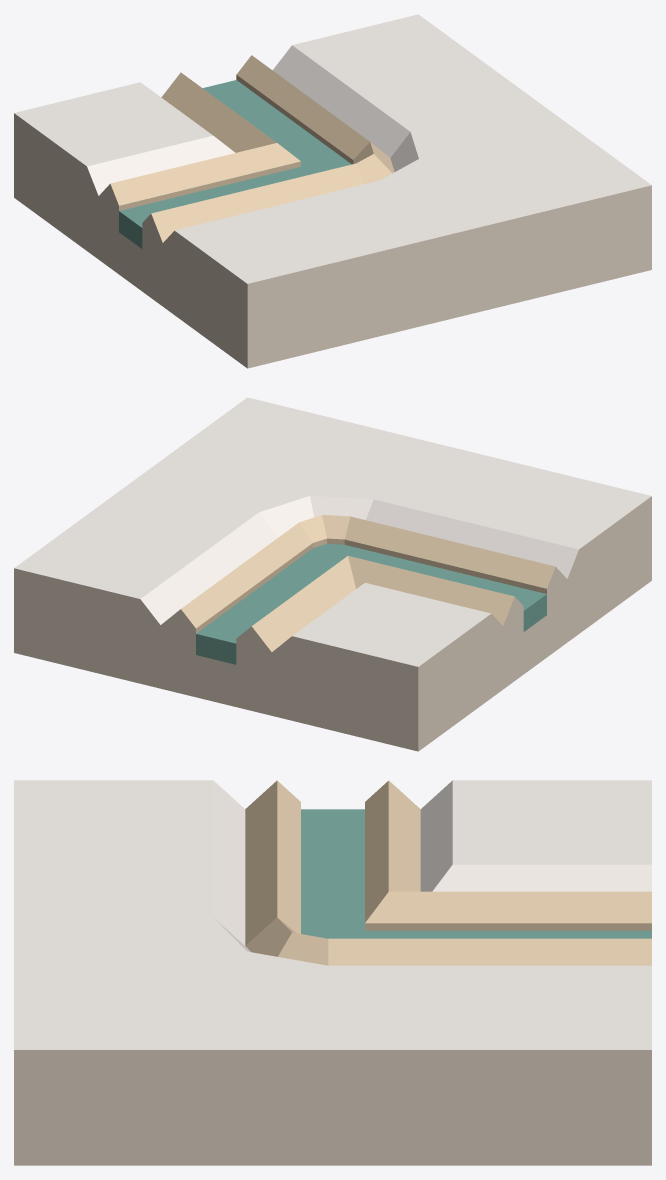
The model's file is Puzzle_Floor_Conduit_Standard_Corner.glb.
3 renders of one model, top to bottom at view 1: azimuth 30°, elevation 25°; view 2: azimuth 150°, elevation 25°; view 3: azimuth 270°, elevation 25°, orthographic. The views are drawn at different scales.
Visible parts, largest first — view 1: Puzzle_Floor_Conduit_Standard_Corner; view 2: Puzzle_Floor_Conduit_Standard_Corner; view 3: Puzzle_Floor_Conduit_Standard_Corner.
Boxes of the visible parts, bbox=[...] form: Puzzle_Floor_Conduit_Standard_Corner: bbox=[14, 14, 651, 368]; Puzzle_Floor_Conduit_Standard_Corner: bbox=[14, 397, 651, 751]; Puzzle_Floor_Conduit_Standard_Corner: bbox=[14, 780, 651, 1165].
Size of the model in its own units: 1 by 0.2 by 1.
